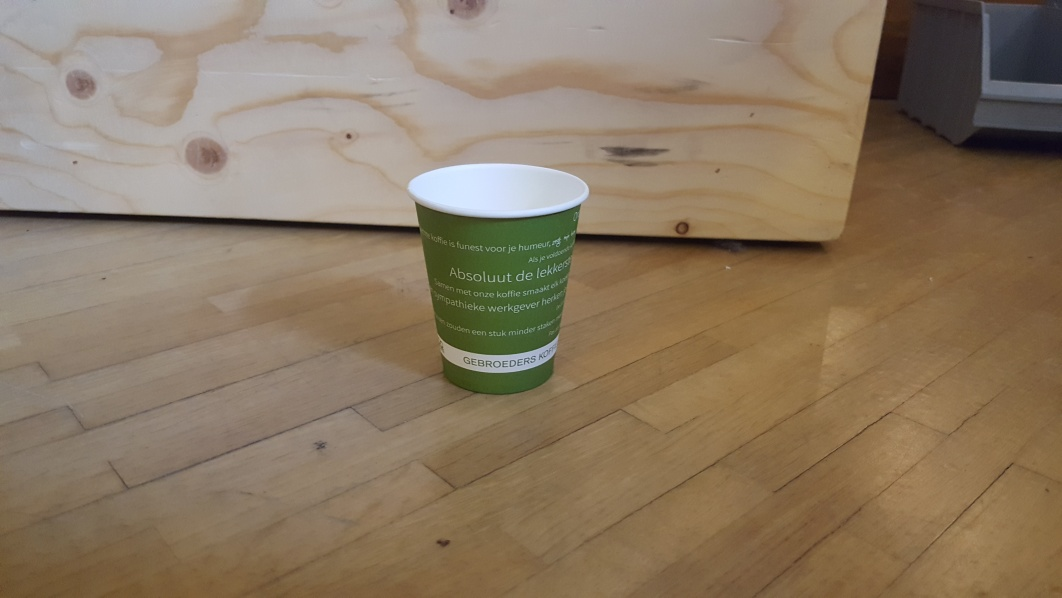cup: (406, 161, 587, 399)
tray: (897, 1, 1062, 148)
